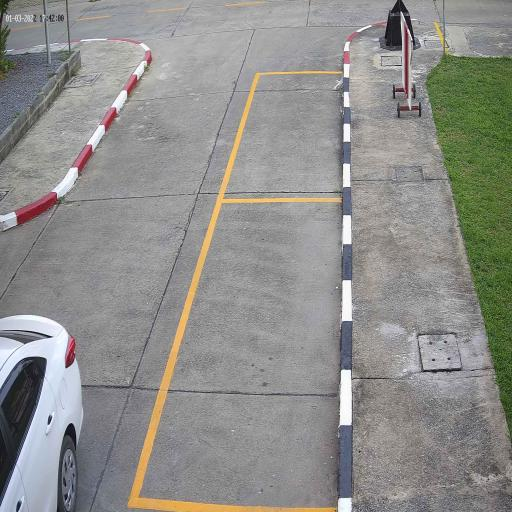car: (0, 312, 85, 512)
